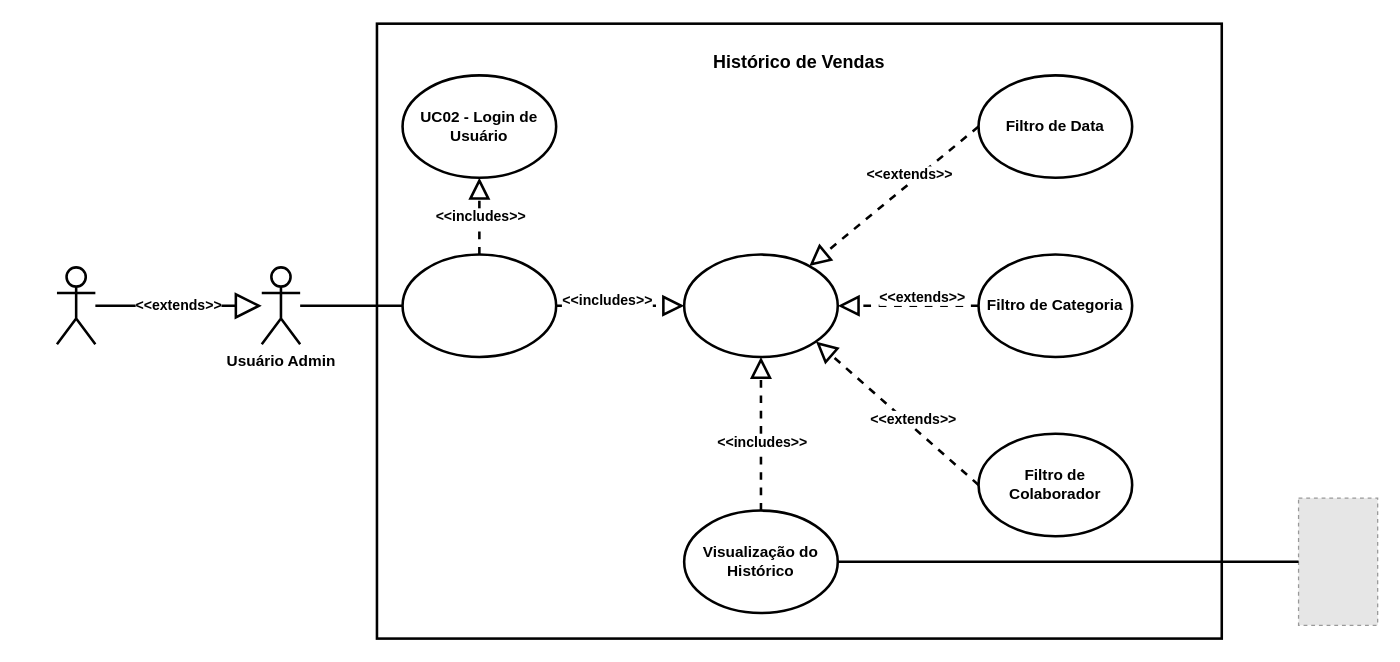
The diagram is 1400 pixels wide and 662 high, and some of its shapes have lost their labels. Grey dashed boxes stand in for pictures. Each missing label, with the centre of its shape:
"Acesso à tela de Histórico" goes at point 760,305.
"UC08 - Histórico de Vendas" goes at point 479,305.
"Usuário Owner" goes at point 75,305.
